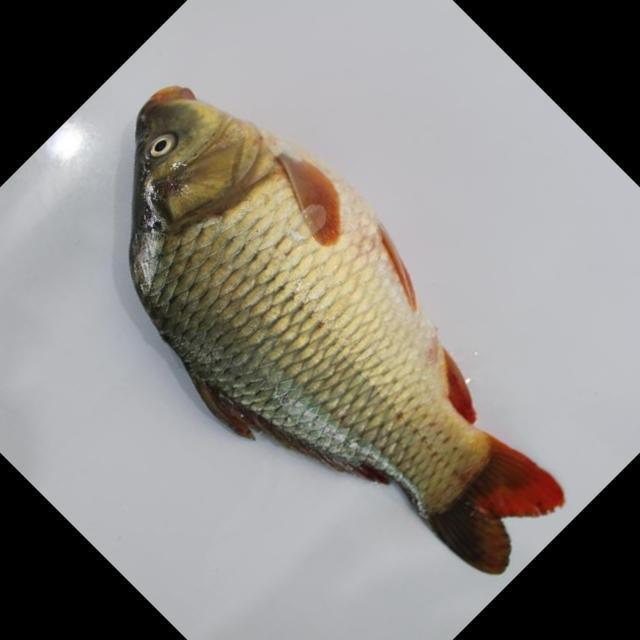CommonCarp: (119, 83, 587, 567)
